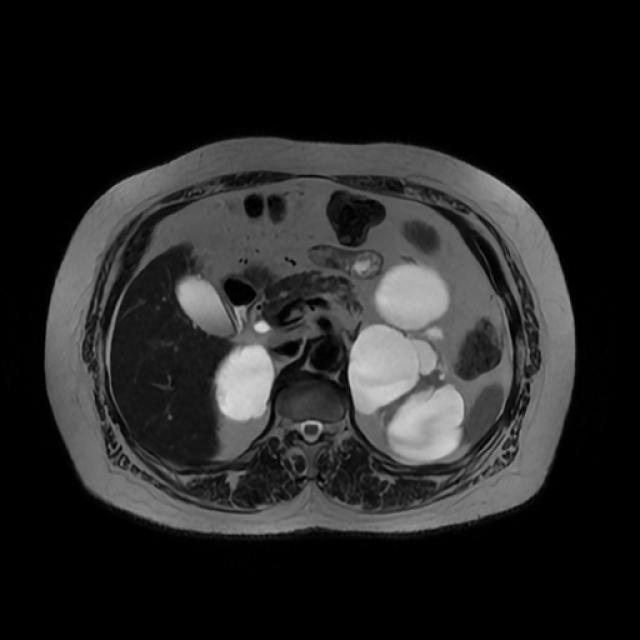sag: (213, 341, 275, 424)
sol: (347, 262, 467, 462)
